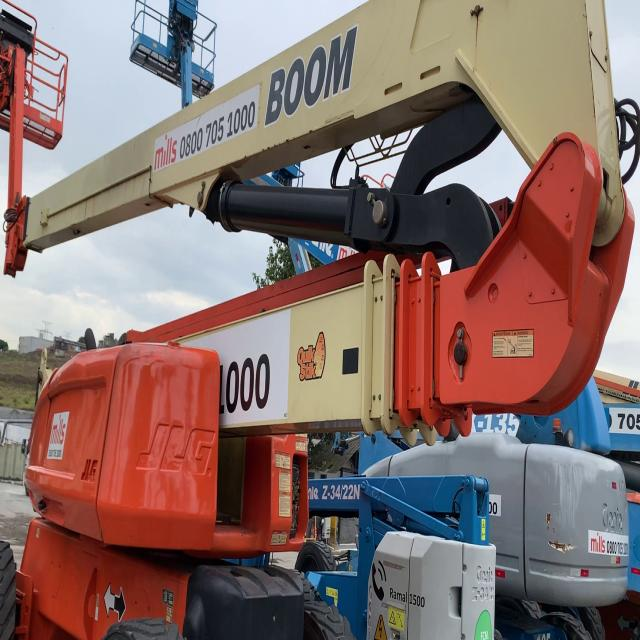Adesivo Longo: (152, 82, 261, 174)
